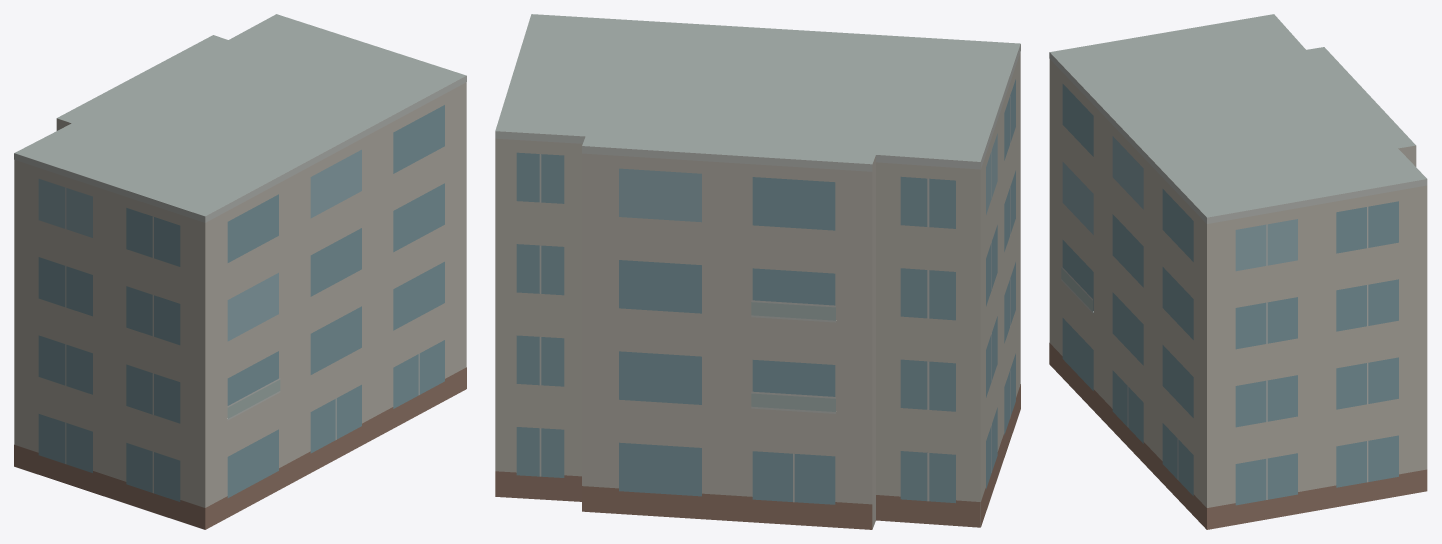
File: survey-upis-32850475.glb
The picture shows the model from 3 angles, left to right: view 1: azimuth 30°, elevation 25°; view 2: azimuth 150°, elevation 25°; view 3: azimuth 270°, elevation 25°; orthographic projection. The views are drawn at different scales.
Parts seen in each view (by area): view 1: survey-upis-32850475.tmp; view 2: survey-upis-32850475.tmp; view 3: survey-upis-32850475.tmp.
Part boxes in pixels (<box>): survey-upis-32850475.tmp: <box>14,14,466,529</box>; survey-upis-32850475.tmp: <box>495,14,1020,529</box>; survey-upis-32850475.tmp: <box>1049,14,1427,529</box>.
Size of the model in its own units: 16.52 by 11.8 by 12.95.
